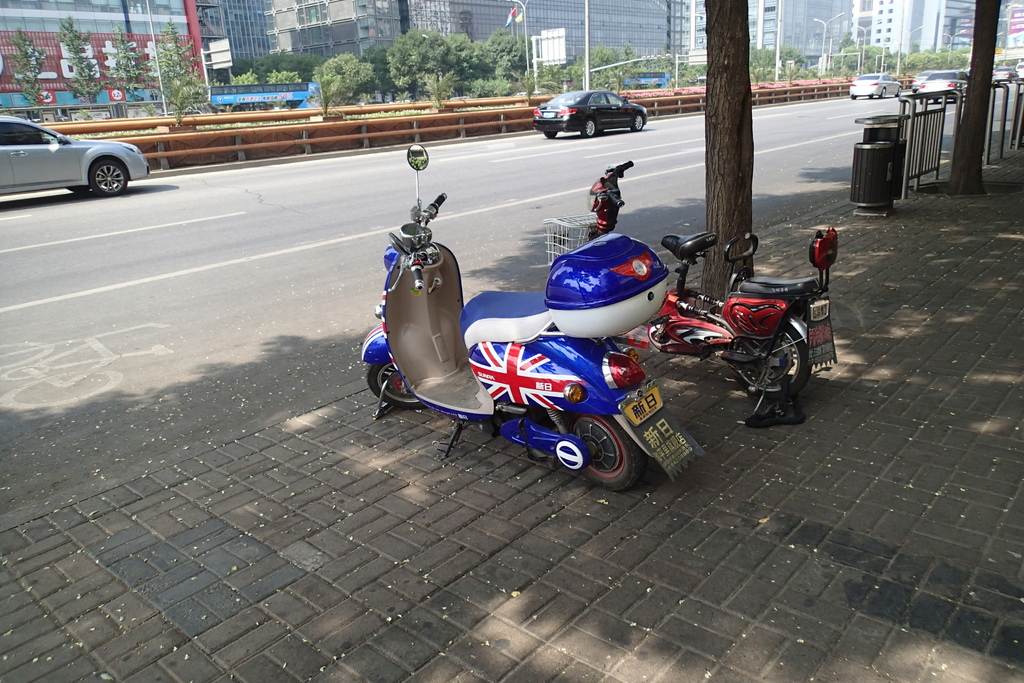Car: (0, 111, 167, 204), (529, 80, 653, 142), (848, 72, 906, 96), (917, 67, 960, 88)
